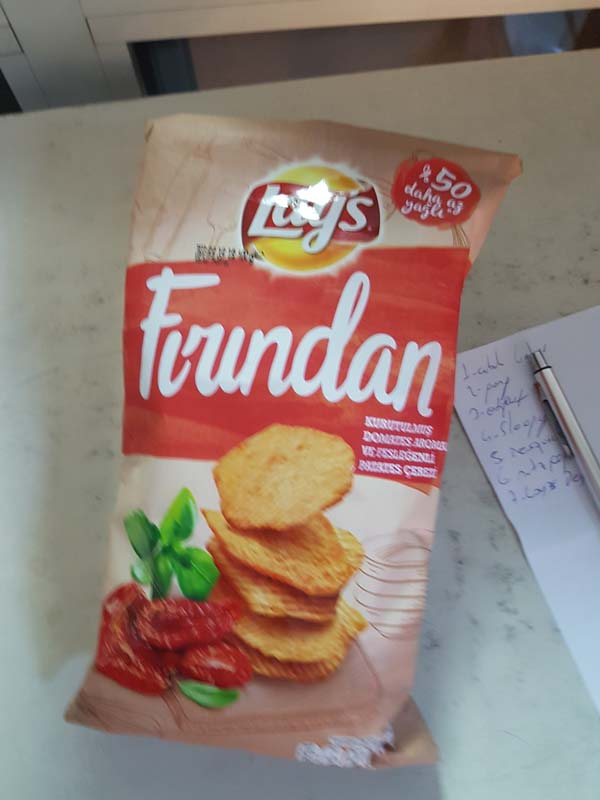laysfirindan: (71, 108, 521, 770)
